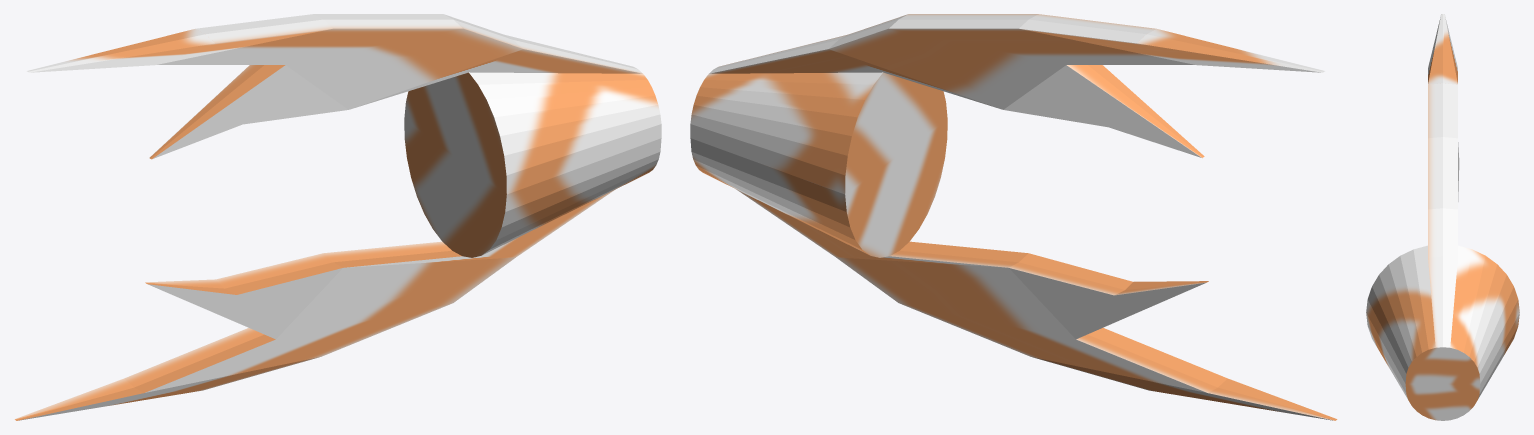
File: antlerClaw.glb
3 views of the same model, side by side, from view 1: azimuth 30°, elevation 25°; view 2: azimuth 150°, elevation 25°; view 3: azimuth 270°, elevation 25° (orthographic). The views are drawn at different scales.
Visible parts, largest first — view 1: Cylinder; view 2: Cylinder; view 3: Cylinder.
Boxes of the visible parts, x1,y1,x2,y2 form: Cylinder: (14,14,661,420); Cylinder: (690,14,1337,420); Cylinder: (1366,14,1519,420).
Size of the model in its own units: 7.01 by 3.8 by 2.
Materials: 1 (1 with a texture image).
